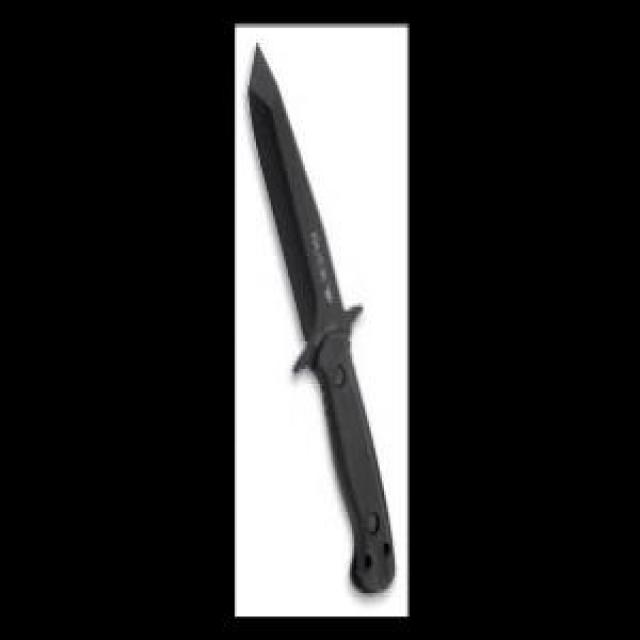knife: (241, 40, 397, 590)
